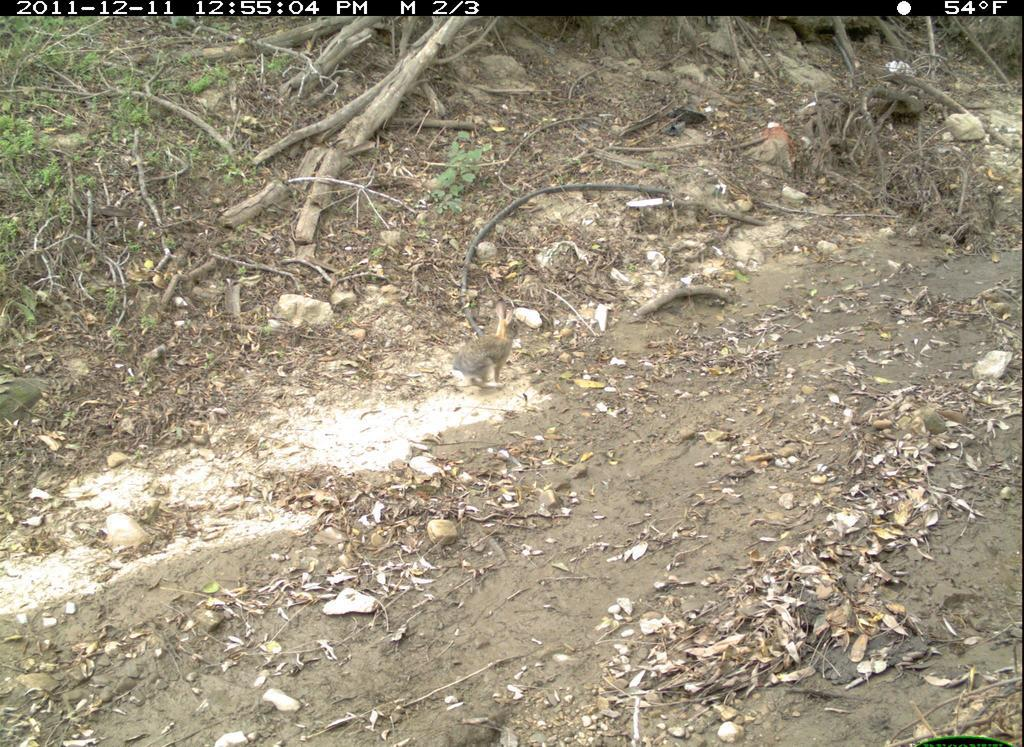rabbit: (445, 297, 527, 399)
